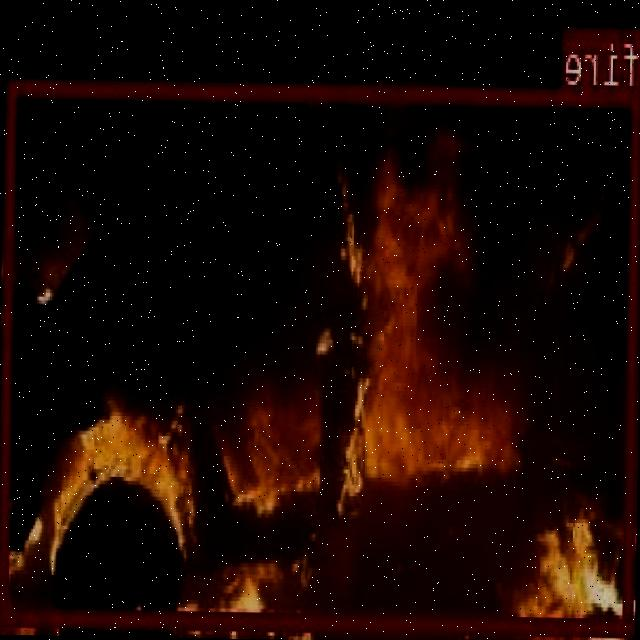fire: (0, 77, 640, 634)
